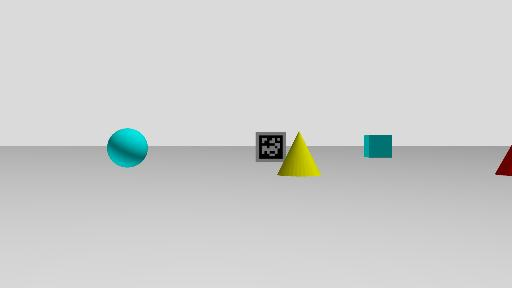red_cone: (495, 141, 512, 176)
yellow_cone: (276, 130, 322, 177)
